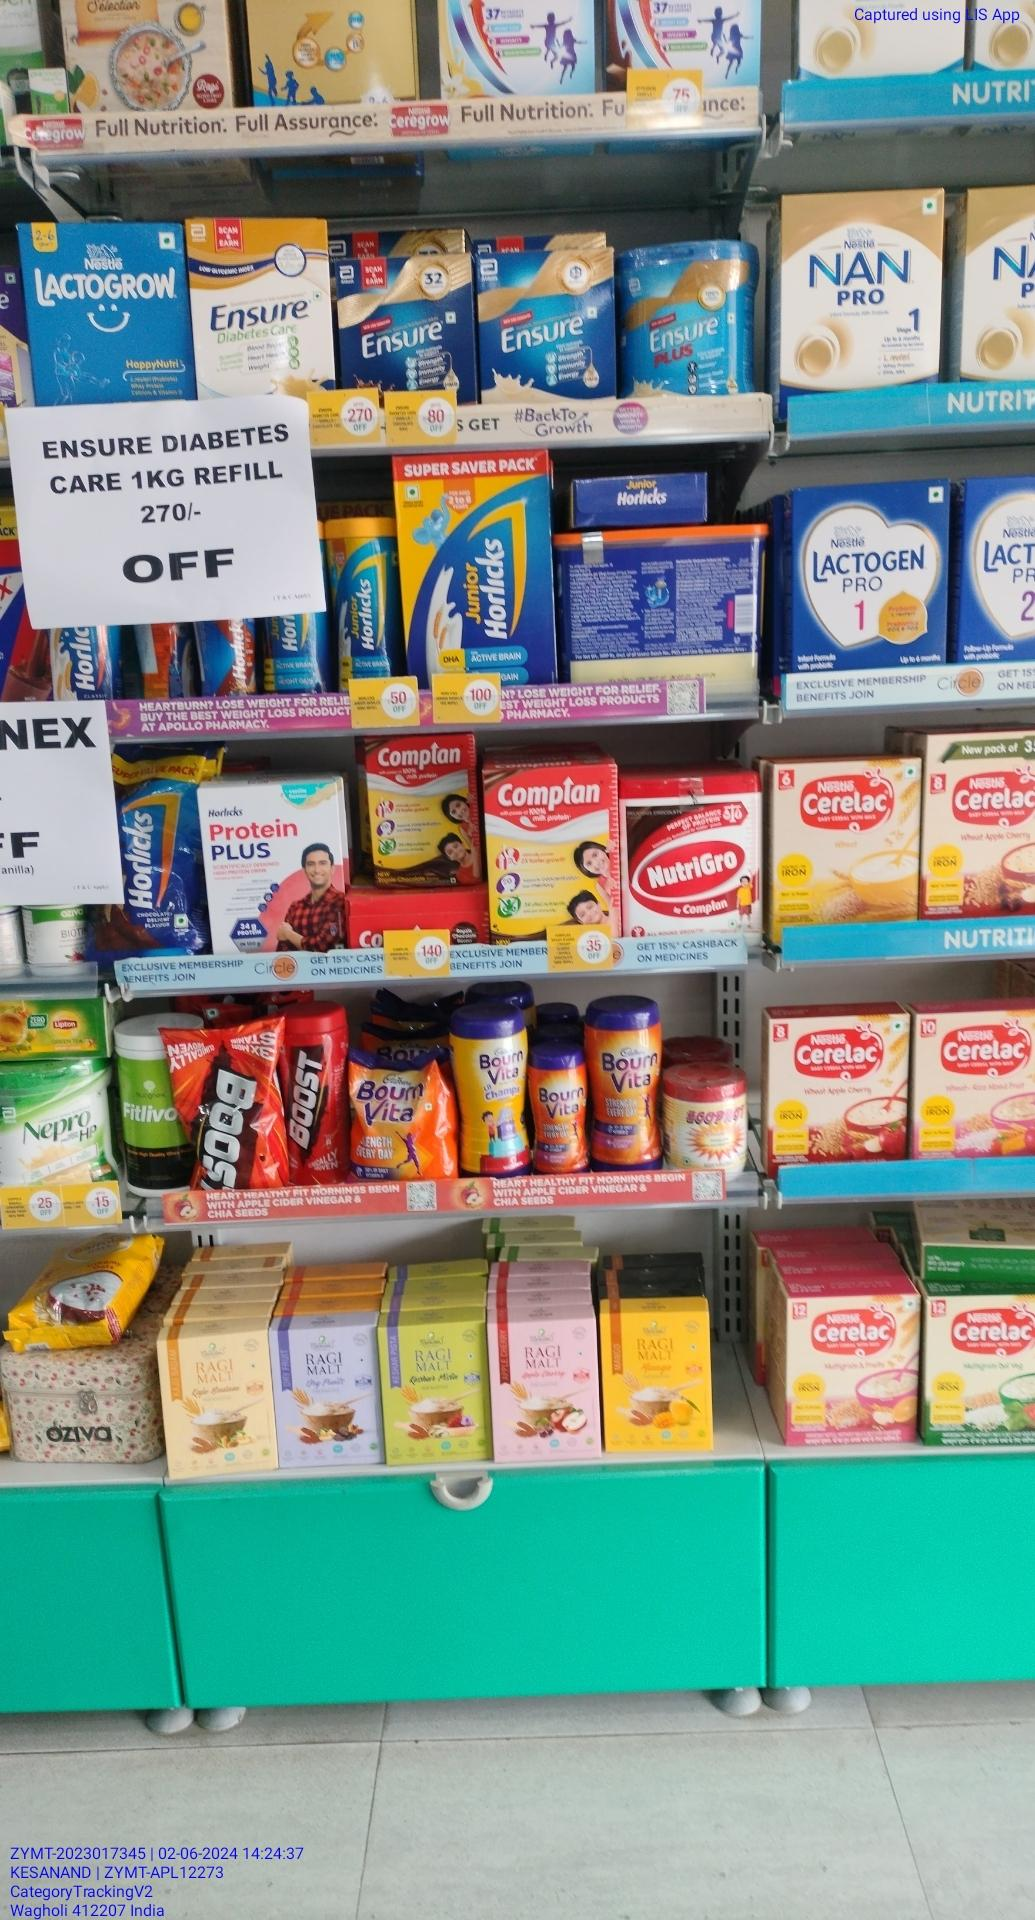BOURN_VITA_CHAMPS_500_G_JAR: (460, 1010, 532, 1181)
HORLICKS_JUNIOR_VANILLA_500_GM_JAR: (339, 517, 396, 680)
